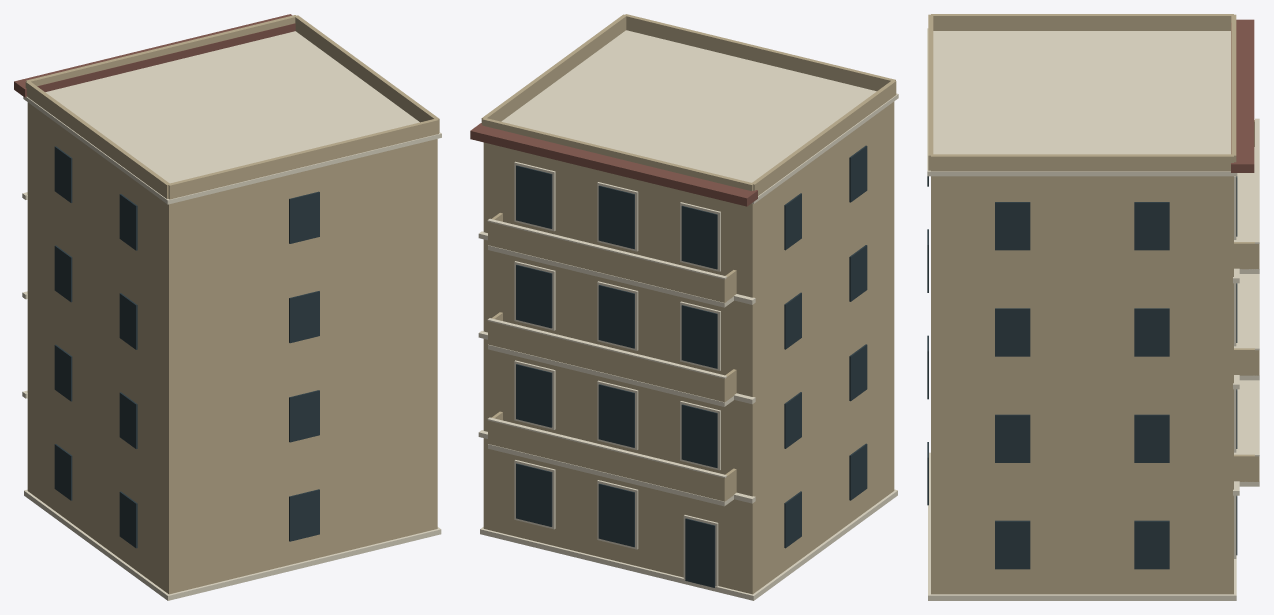
File: KOL_T3_MOD_06.fbx
The picture shows the model from 3 angles, left to right: view 1: azimuth 30°, elevation 25°; view 2: azimuth 150°, elevation 25°; view 3: azimuth 270°, elevation 25°; orthographic projection. The views are drawn at different scales.
Parts seen in each view (by area): view 1: KOL_T3_MOD_06__Body, KOL_T3_MOD_06__Trim, KOL_T3_MOD_06__Dark, KOL_T3_MOD_06__Accent; view 2: KOL_T3_MOD_06__Body, KOL_T3_MOD_06__Trim, KOL_T3_MOD_06__Dark, KOL_T3_MOD_06__Accent; view 3: KOL_T3_MOD_06__Body, KOL_T3_MOD_06__Trim, KOL_T3_MOD_06__Dark, KOL_T3_MOD_06__Accent.
Part boxes in pixels (x1,y1,x2,y2): KOL_T3_MOD_06__Body: (25, 15, 439, 594); KOL_T3_MOD_06__Trim: (22, 31, 441, 600); KOL_T3_MOD_06__Dark: (54, 146, 319, 548); KOL_T3_MOD_06__Accent: (14, 14, 295, 97); KOL_T3_MOD_06__Body: (481, 14, 896, 594); KOL_T3_MOD_06__Trim: (478, 30, 898, 600); KOL_T3_MOD_06__Dark: (516, 145, 867, 587); KOL_T3_MOD_06__Accent: (470, 123, 757, 206); KOL_T3_MOD_06__Body: (928, 14, 1259, 594); KOL_T3_MOD_06__Trim: (927, 28, 1259, 600); KOL_T3_MOD_06__Dark: (927, 176, 1237, 569); KOL_T3_MOD_06__Accent: (1231, 19, 1254, 172).
Size of the model in its own units: 35 by 50.15 by 34.02.
